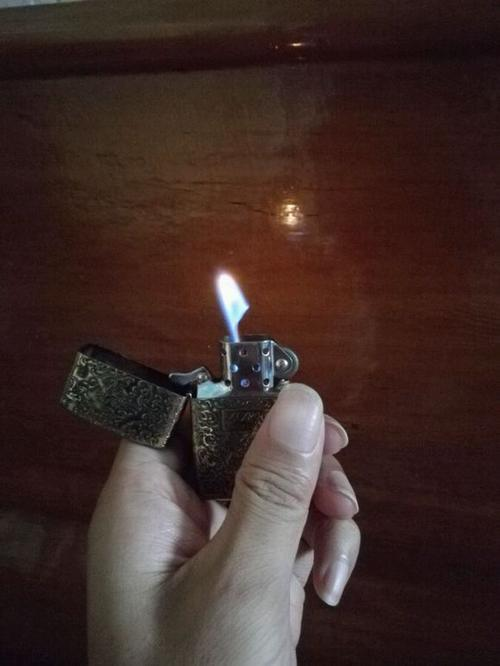fire: (173, 248, 270, 358)
